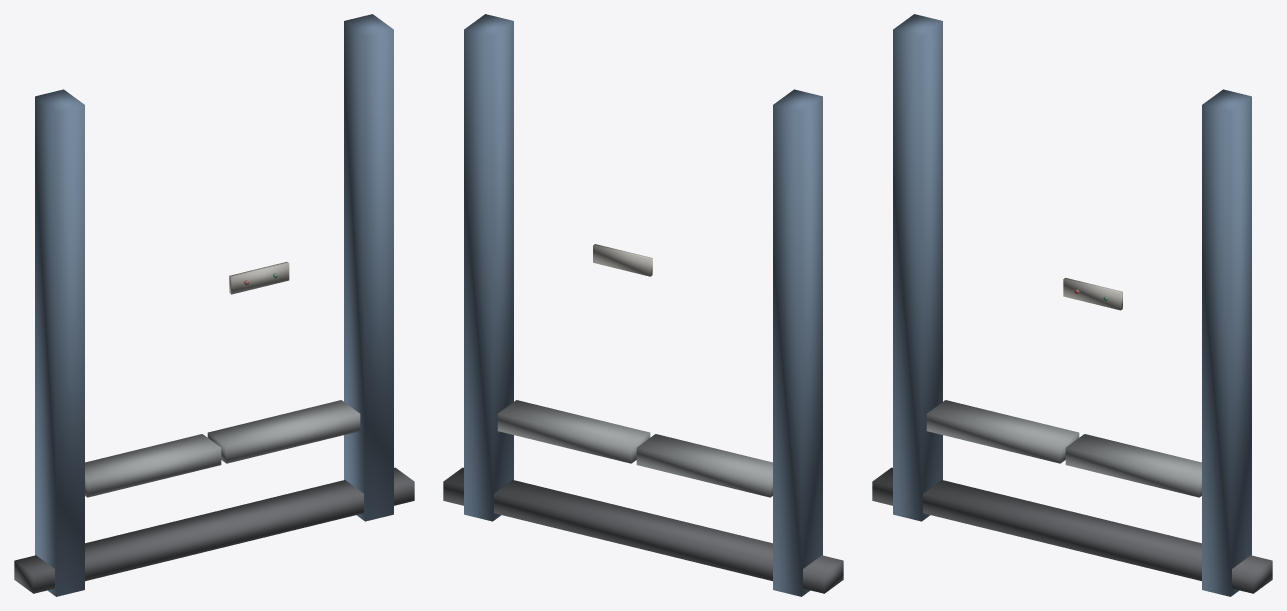
File: two_post_car_lift.glb
The picture shows the model from 3 angles, left to right: view 1: azimuth 30°, elevation 25°; view 2: azimuth 150°, elevation 25°; view 3: azimuth 330°, elevation 25°; orthographic projection.
Visible parts, largest first — view 1: world; view 2: world; view 3: world.
Part boxes in pixels (x1,y1,x2,y2): world: (14,14,414,596); world: (443,14,843,596); world: (872,14,1272,596).
Size of the model in its own units: 1.85 by 2.25 by 0.211.
